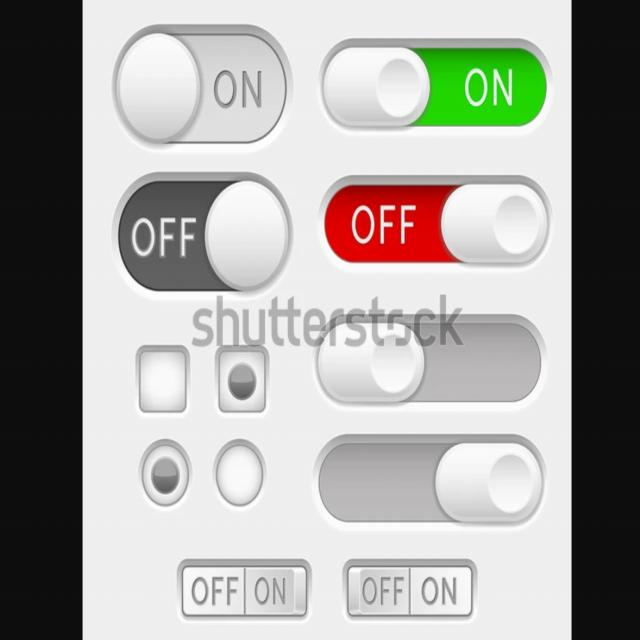radio: (213, 344, 272, 415), (137, 438, 195, 508)
toggle: (106, 165, 294, 301), (314, 308, 550, 415), (316, 171, 556, 273), (311, 434, 549, 536), (109, 21, 294, 152), (316, 33, 551, 134)
